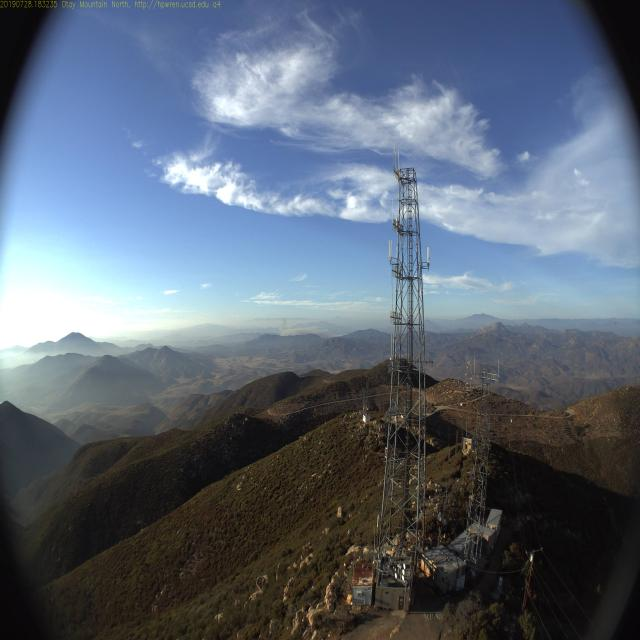smoke: (276, 313, 290, 340)
